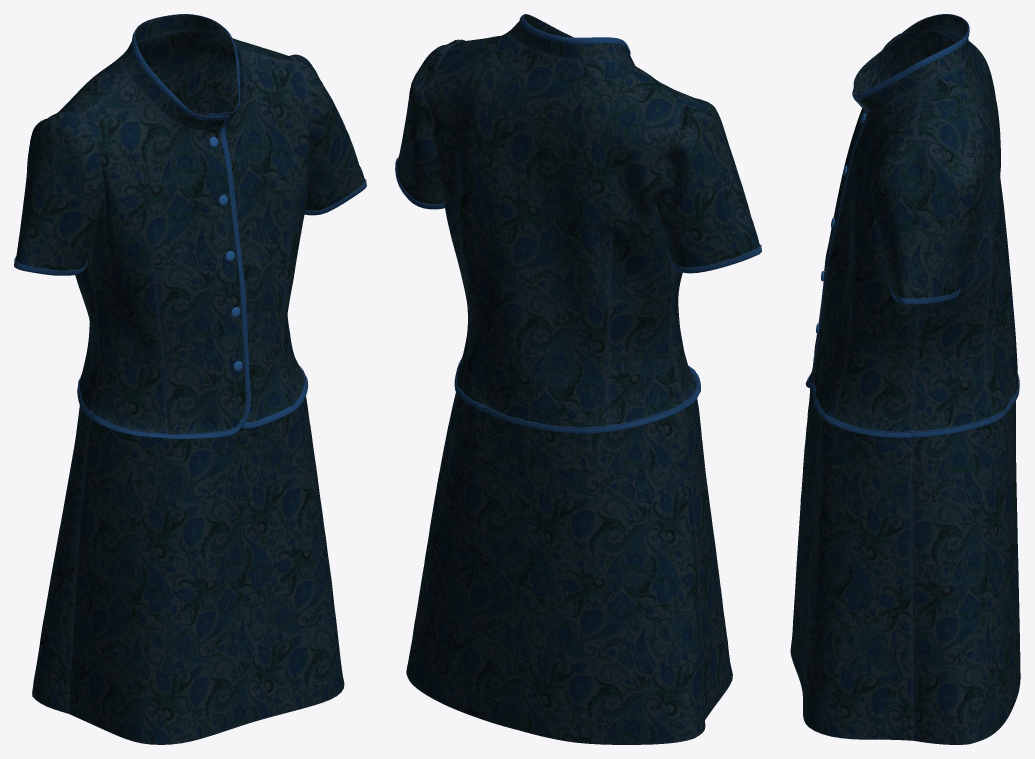
The picture shows the model from 3 angles, left to right: view 1: azimuth 30°, elevation 25°; view 2: azimuth 150°, elevation 25°; view 3: azimuth 270°, elevation 25°; orthographic projection. The views are drawn at different scales.
Parts seen in each view (by area): view 1: defaultMaterial; view 2: defaultMaterial; view 3: defaultMaterial.
Boxes of the visible parts, bbox=[...] form: defaultMaterial: bbox=[14, 14, 366, 744]; defaultMaterial: bbox=[395, 14, 761, 744]; defaultMaterial: bbox=[790, 14, 1020, 744].
Bounding box in the file's own units: 1.69 × 3 × 0.9583.
Materials: 1 (1 with a texture image).
